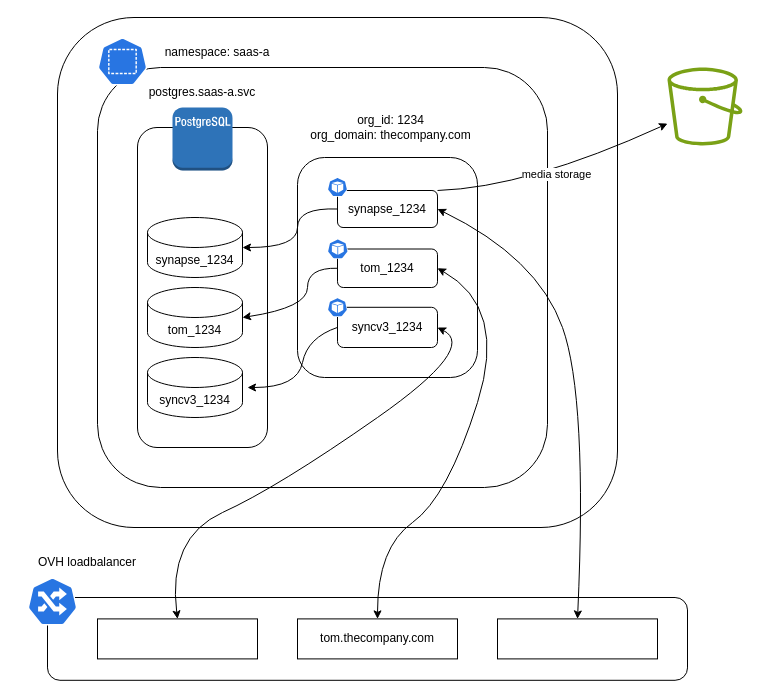
Image size: 780x698. Some labels were removed from this diagram. Here are the shapes that lost their labels. From the top down, the centre of each, then its label:
point 704,106: OVH S3 offering: s3://twake-saas/1234/
point 177,638: syncv3.thecompany.com
point 577,638: matrix.thecompany.com
